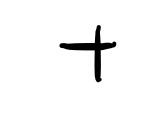plus: (60, 25, 114, 82)
